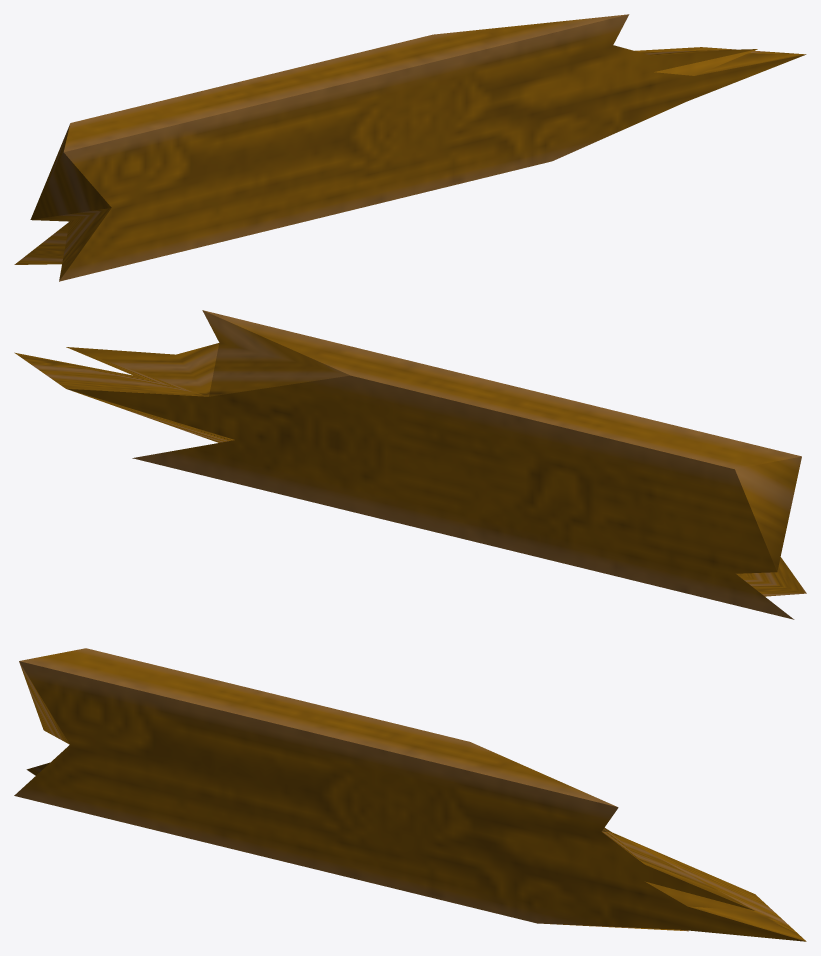
The model's file is box_hahen_B.fbx.
3 views of the same model, one above another, from view 1: azimuth 30°, elevation 25°; view 2: azimuth 150°, elevation 25°; view 3: azimuth 330°, elevation 25° (orthographic). The views are drawn at different scales.
Parts seen in each view (by area): view 1: polySurface3; view 2: polySurface3; view 3: polySurface3.
Boxes of the visible parts, x1,y1,x2,y2 form: polySurface3: (14, 14, 806, 281); polySurface3: (14, 310, 806, 619); polySurface3: (14, 648, 806, 941).
Size of the model in its own units: 77.99 by 12.5 by 5.
Materials: 1 (1 with a texture image).
